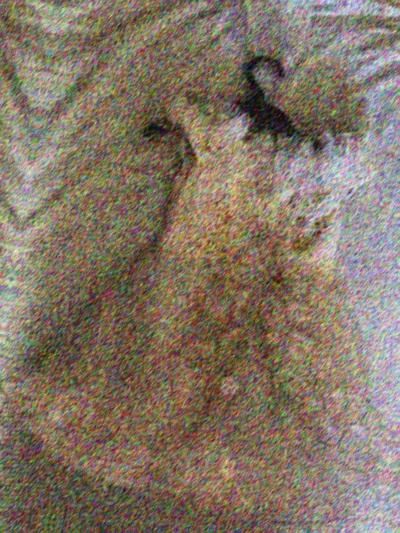Dress: (0, 27, 400, 533), (0, 0, 45, 494), (382, 95, 400, 533), (0, 525, 358, 533)
